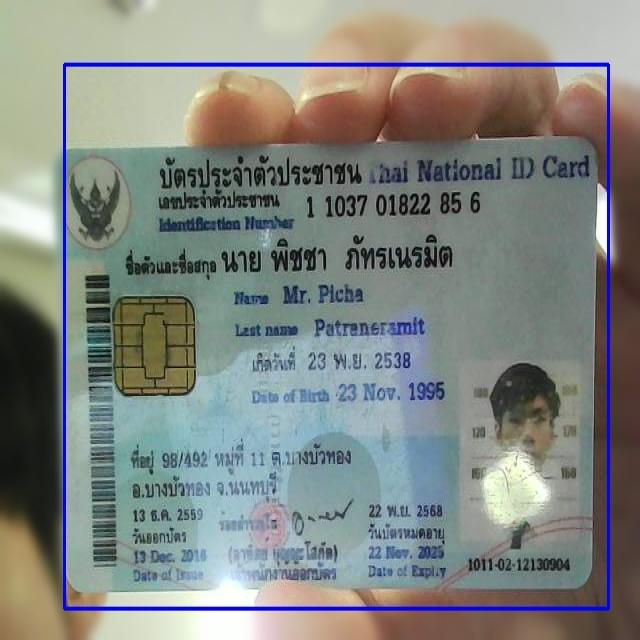Address_th: (125, 430, 367, 509)
Date_of_Birth: (336, 377, 450, 408)
Date_of_Expiry: (361, 542, 452, 566)
Date_of_Issue: (128, 545, 210, 569)
First_Name: (280, 277, 366, 309)
ID_Number: (302, 188, 488, 221)
Image: (462, 365, 580, 548)
Last_Name: (311, 312, 429, 342)
Thai_Name: (218, 230, 463, 274)
